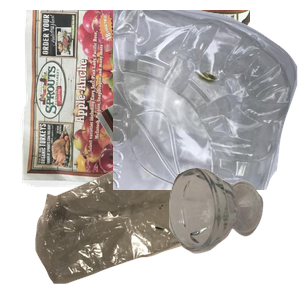glass: (166, 165, 300, 300)
paper: (18, 10, 258, 190)
plastic: (113, 10, 300, 190)
trash: (33, 145, 270, 300)
